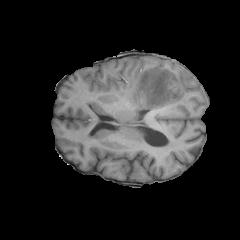glioma: (118, 60, 193, 112)
